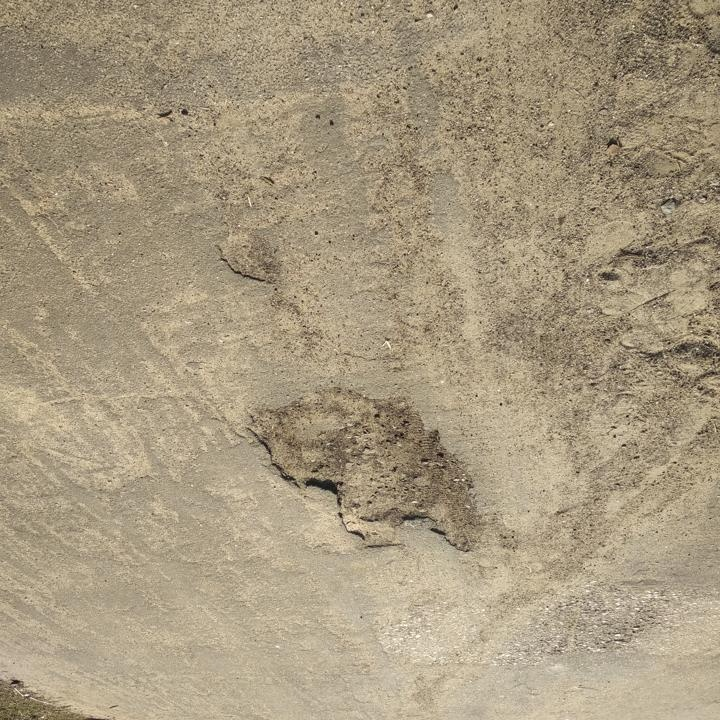pothole: (240, 385, 486, 557), (214, 228, 280, 288)
